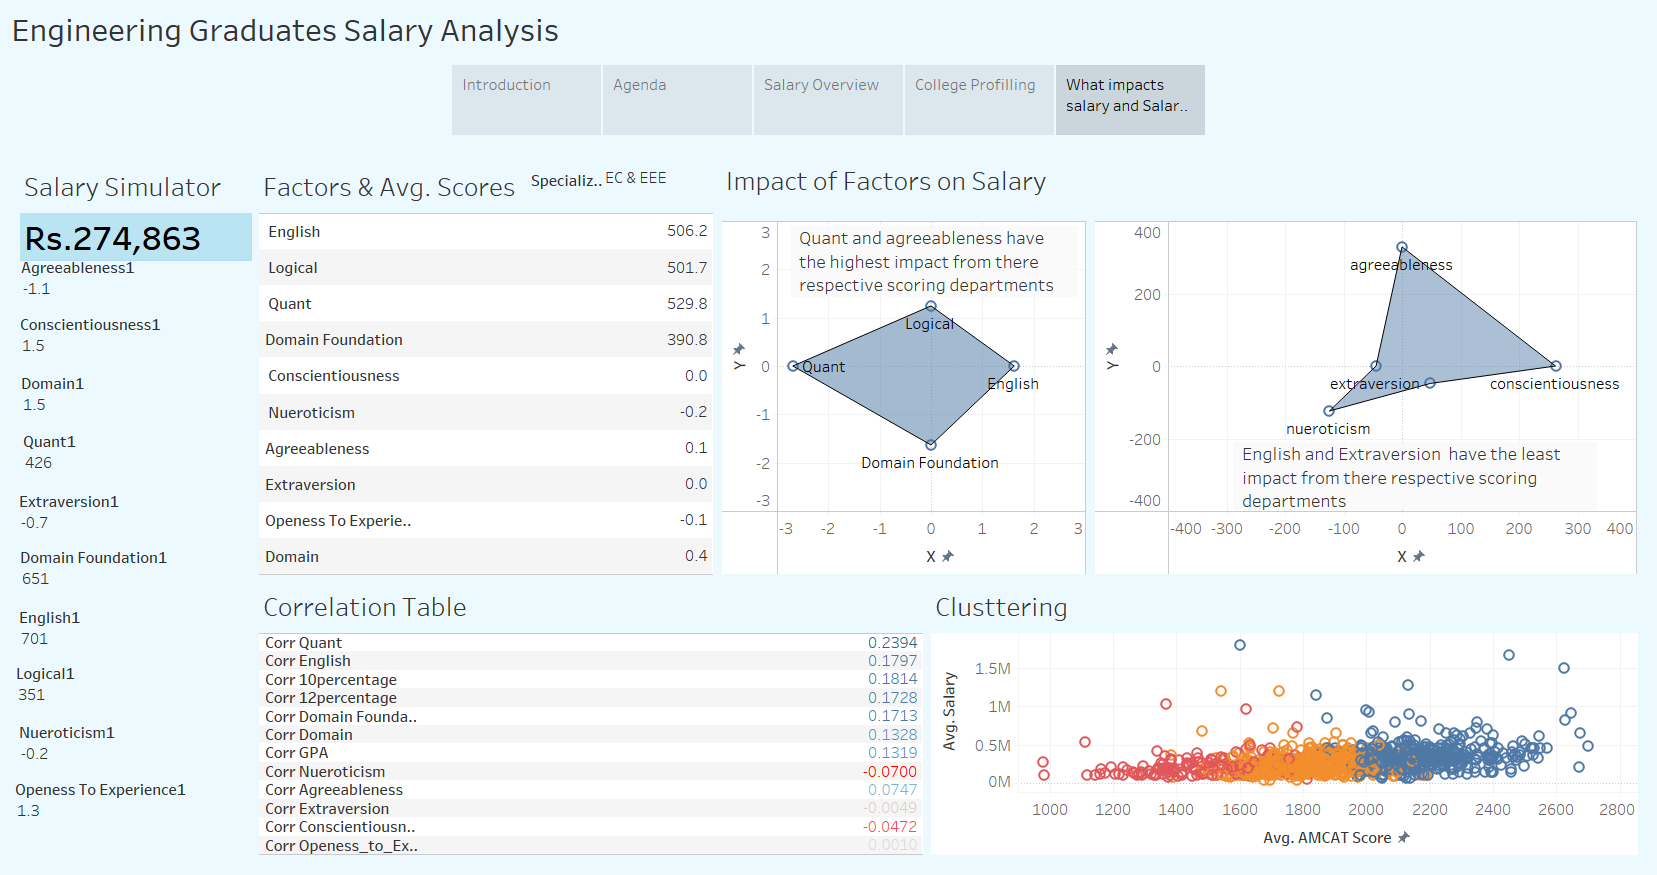

The page's visual inventory and layout, read from the dashboard file:
{"tool":"tableau","page":{"name":"What impacts salary","canvas":[1000,1000],"units":"permille","ordinal":2},"visuals":[{"type":"worksheet","title":"Salary simulator","mark":"Automatic","box":[5.7,10.6,145.7,978.8]},{"type":"worksheet","title":"Factors impacting salary","mark":"Automatic","box":[151.3,10.6,281.2,586.6]},{"type":"text","box":[432.5,10.6,561.8,47.7]},{"type":"filter","title":"Factors impacting salary","param":"[federated.1eqvlx30k8zp3u1e3fuax16gicdc].[Specialization (group)]","box":[318.9,22.5,110.3,35.8]},{"type":"worksheet","title":"Radar1","mark":"Automatic","rows":["y","y"],"cols":["x"],"box":[432.5,58.3,263.8,538.9]},{"type":"worksheet","title":"Radar2","mark":"Automatic","rows":["y","y"],"cols":["X"],"box":[696.3,58.3,298,538.9]},{"type":"parameter","param":"[Parameters].[Conscientiousness (copy)_3650730462734430212]","box":[8.1,146,130.2,82.9]},{"type":"parameter","param":"[Parameters].[English (copy) (copy) (copy) (copy)_3650730462733623299]","box":[7.3,226.5,130.2,82.9]},{"type":"parameter","param":"[Parameters].[English (copy) (copy) (copy)_3650730462733615106]","box":[8.1,308.2,130.2,82.9]},{"type":"parameter","param":"[Parameters].[English (copy) (copy)_3650730462733606913]","box":[9,389.9,130.2,82.9]},{"type":"parameter","param":"[Parameters].[Conscientiousness (copy)_3650730462734659589]","box":[6.5,472.8,130.2,82.9]},{"type":"parameter","param":"[Parameters].[Agreebleness (copy)_3650730462735646728]","box":[7.3,552,130.2,82.9]},{"type":"worksheet","title":"Corr Table","mark":"Automatic","box":[151.3,597.2,408.7,392.2]},{"type":"worksheet","title":"clusttering","mark":"Automatic","rows":["Salary"],"cols":["Calculation_984880957842632704"],"box":[560,597.2,434.3,392.2]},{"type":"parameter","param":"[Parameters].[Parameter 1]","box":[6.5,634.9,130.2,82.9]},{"type":"parameter","param":"[Parameters].[English (copy)_3650730462733451264]","box":[4.9,714.1,130.2,82.9]},{"type":"parameter","param":"[Parameters].[Conscientiousness (copy)_3650730462735130630]","box":[6.5,795.8,130.2,82.9]},{"type":"parameter","param":"[Parameters].[Agreebleness (copy)_3650730462735458311]","box":[4.1,876.2,130.2,82.9]}]}

Visuals, with their boxes on the dashboard's canvas, which has no fixed pixel size, in thousandths of its width and height (x1, y1, x2, y2). These are canvas units, not pixel positions in the 1657x875 screenshot, which may show the page scaled, cropped or inside an application window:
"Salary simulator" worksheet: box=[6, 11, 151, 989]
"Factors impacting salary" worksheet: box=[151, 11, 432, 597]
text: box=[432, 11, 994, 58]
"Factors impacting salary" filter: box=[319, 22, 429, 58]
"Radar1" worksheet: box=[432, 58, 696, 597]
"Radar2" worksheet: box=[696, 58, 994, 597]
parameter: box=[8, 146, 138, 229]
parameter: box=[7, 226, 138, 309]
parameter: box=[8, 308, 138, 391]
parameter: box=[9, 390, 139, 473]
parameter: box=[6, 473, 137, 556]
parameter: box=[7, 552, 138, 635]
"Corr Table" worksheet: box=[151, 597, 560, 989]
"clusttering" worksheet: box=[560, 597, 994, 989]
parameter: box=[6, 635, 137, 718]
parameter: box=[5, 714, 135, 797]
parameter: box=[6, 796, 137, 879]
parameter: box=[4, 876, 134, 959]
